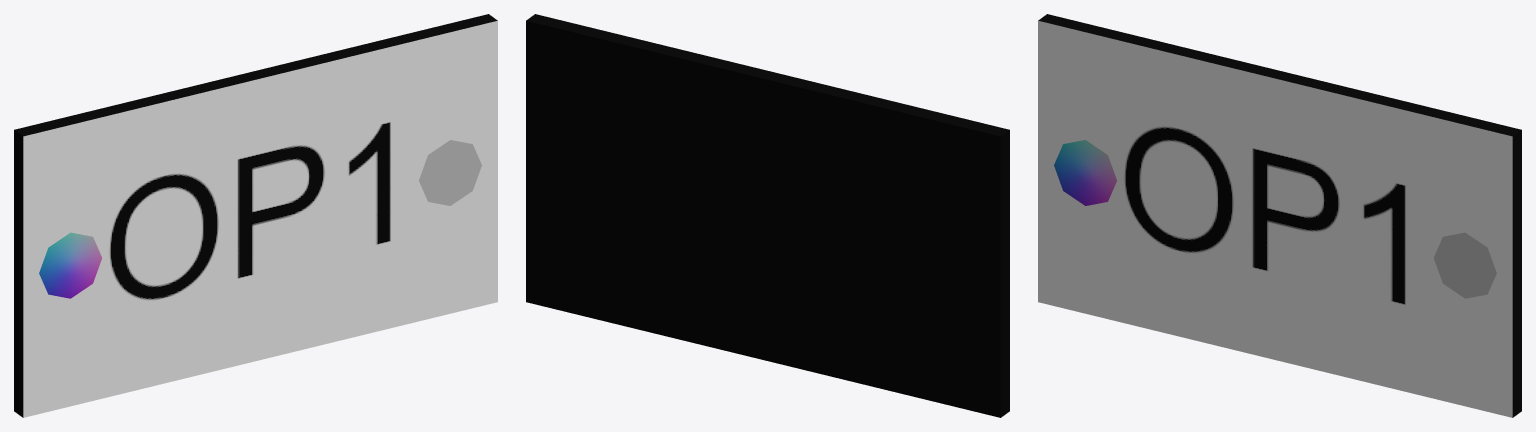
The model's file is label.dae.
3 renders of one model, left to right at view 1: azimuth 30°, elevation 25°; view 2: azimuth 150°, elevation 25°; view 3: azimuth 330°, elevation 25°, orthographic.
Parts seen in each view (by area): view 1: label (×4); view 2: label; view 3: label (×4).
Part boxes in pixels (x1,y1,x2,y2): label (×4): (14,14,497,417); label: (526,14,1009,417); label (×4): (1038,14,1521,417).
Size of the model in its own units: 1.18 by 0.0394 by 0.6693.
